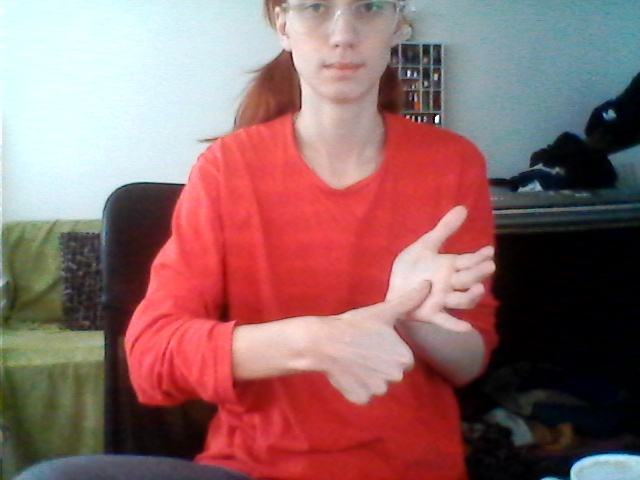pivo: (327, 200, 501, 414)
